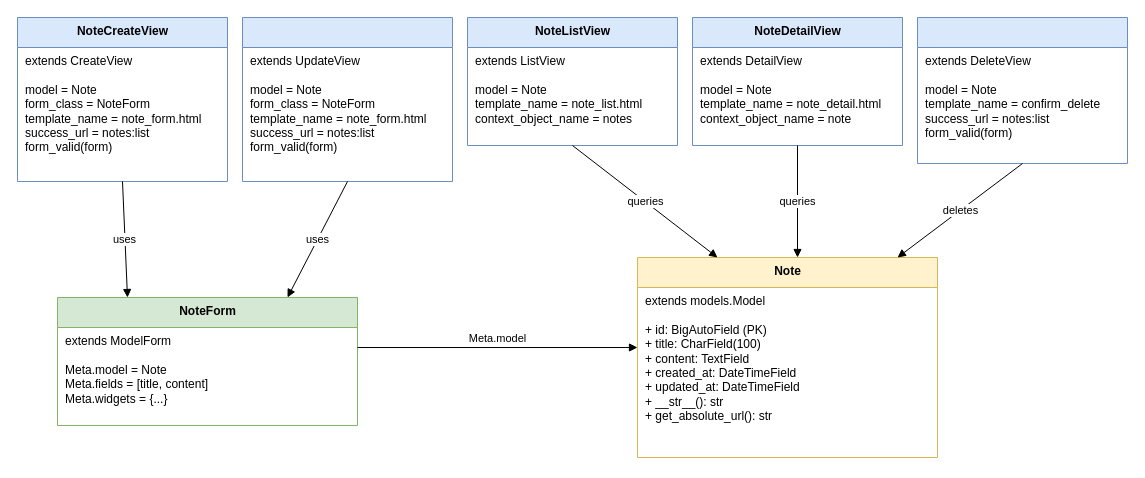
The diagram is 1145 pixels wide and 478 high, and some of its shapes have lost their labels. Here are the shapes that lost their labels. From the top down, the box of each, then its label:
(242, 16, 452, 182): NoteUpdateView
(916, 16, 1128, 164): NoteDeleteView
